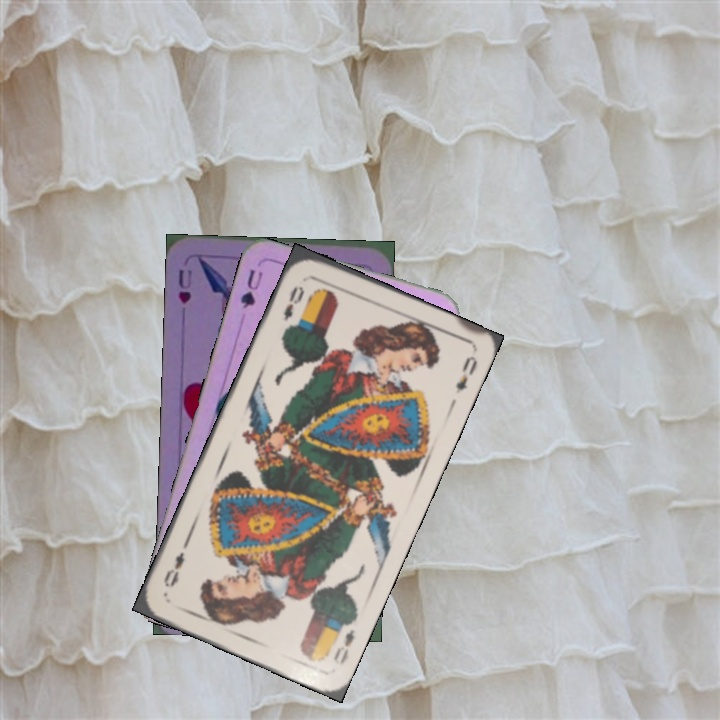EO: (279, 281, 307, 323), (329, 625, 357, 666)
GU: (236, 265, 265, 311)
HU: (174, 265, 195, 306)
